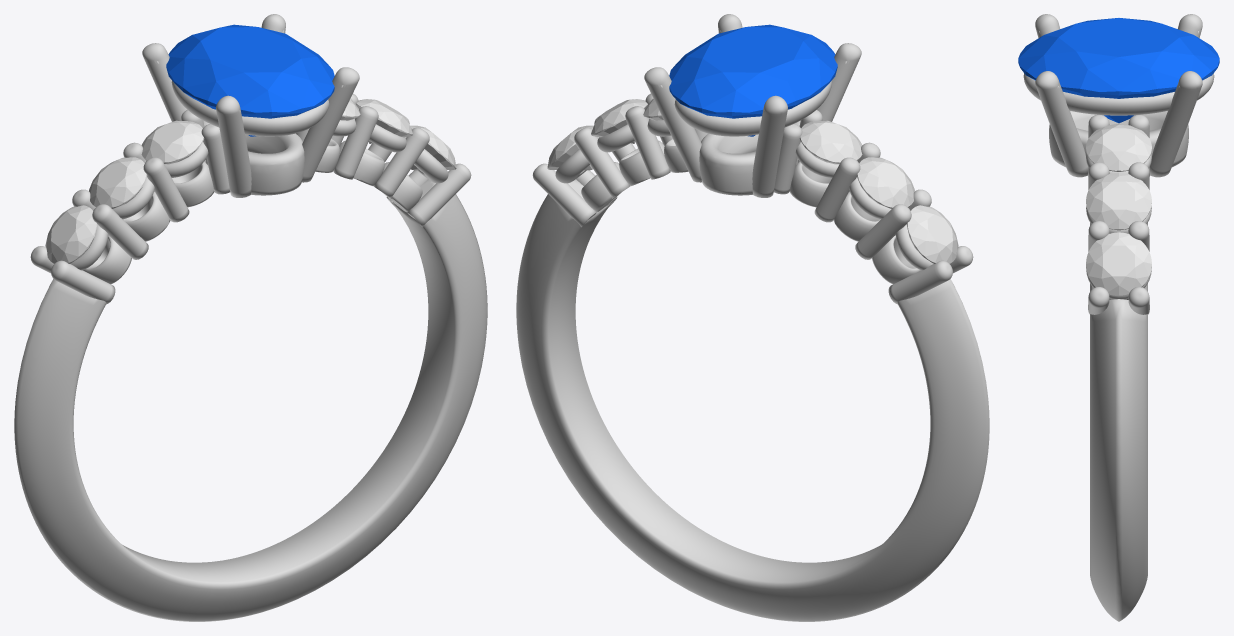
File: bluesapphire-oval-platinum-4prong-knifeedge-7stone.glb
The picture shows the model from 3 angles, left to right: view 1: azimuth 30°, elevation 25°; view 2: azimuth 150°, elevation 25°; view 3: azimuth 270°, elevation 25°; orthographic projection.
Visible parts, largest first — view 1: metal, stone, side, side.001, side.002, side.004, side.003; view 2: metal, stone, side, side.001, side.002, side.004, side.003; view 3: metal, stone, side.003, side.004, side.005.
Boxes of the visible parts, x1,y1,x2,y2 form: metal: (14, 14, 487, 621); stone: (166, 24, 334, 136); side: (45, 205, 97, 263); side.001: (89, 157, 147, 208); side.002: (141, 120, 204, 164); side.004: (356, 99, 412, 143); side.003: (410, 125, 456, 170); metal: (516, 14, 989, 621); stone: (669, 24, 837, 136); side: (906, 205, 958, 263); side.001: (856, 157, 914, 208); side.002: (799, 120, 862, 164); side.004: (591, 99, 647, 143); side.003: (547, 125, 593, 170); metal: (1023, 14, 1214, 621); stone: (1018, 18, 1219, 123); side.003: (1086, 232, 1151, 295); side.004: (1086, 172, 1151, 230); side.005: (1086, 124, 1151, 171).
Size of the model in its own units: 20.5 by 23.4 by 7.64.
